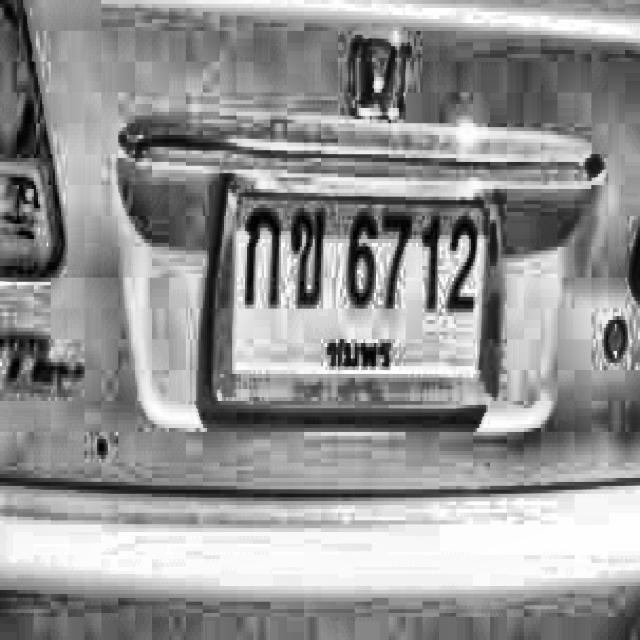license-plate: (190, 145, 537, 455)
